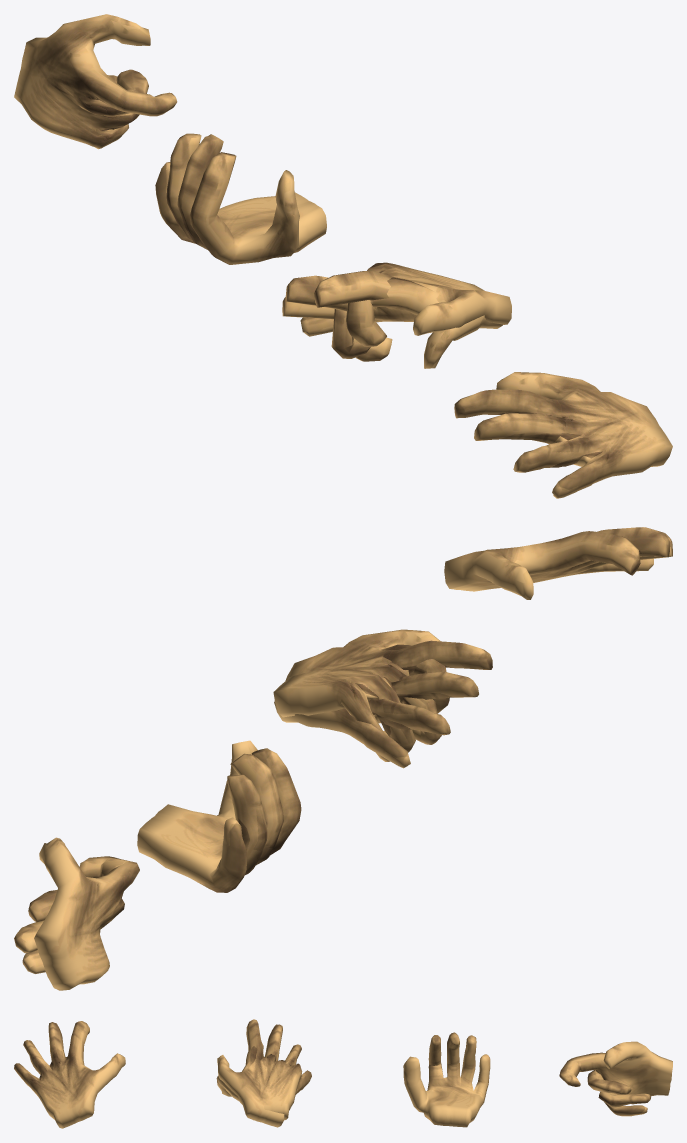
Rendered from hands1.glb.
The picture shows the model from 3 angles, top to bottom: view 1: azimuth 30°, elevation 25°; view 2: azimuth 150°, elevation 25°; view 3: azimuth 270°, elevation 25°; orthographic projection. The views are drawn at different scales.
Visible parts, largest first — view 1: Plane_010, Plane_001, Plane_009, Plane_004, Plane_008; view 2: Plane_001, Plane_004, Plane_009, Plane_010, Plane_008; view 3: Plane_010, Plane_001, Plane_009, Plane_004, Plane_008.
Boxes of the visible parts, bbox=[...] form: Plane_010: bbox=[454, 372, 672, 498]; Plane_001: bbox=[155, 133, 326, 264]; Plane_009: bbox=[14, 14, 177, 149]; Plane_004: bbox=[282, 271, 511, 336]; Plane_008: bbox=[331, 262, 502, 368]; Plane_001: bbox=[137, 740, 301, 892]; Plane_004: bbox=[274, 629, 492, 768]; Plane_009: bbox=[14, 837, 139, 990]; Plane_010: bbox=[444, 527, 672, 599]; Plane_008: bbox=[273, 644, 449, 761]; Plane_010: bbox=[14, 1021, 125, 1128]; Plane_001: bbox=[403, 1032, 490, 1127]; Plane_009: bbox=[559, 1041, 672, 1116]; Plane_004: bbox=[217, 1019, 311, 1127]; Plane_008: bbox=[216, 1042, 302, 1120].
Size of the model in its own units: 3.11 by 1.87 by 14.92.
Materials: 1 (1 with a texture image).
